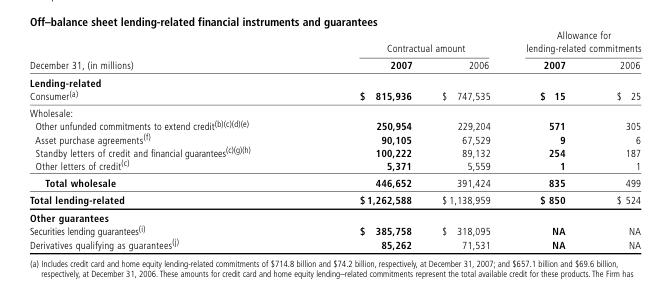table: (28, 28, 640, 250)
table column: (28, 28, 304, 250), (304, 28, 426, 250), (507, 28, 590, 250), (426, 28, 507, 250), (590, 28, 640, 250)
table column header: (28, 28, 640, 73)
table projected row header: (28, 73, 640, 88), (28, 208, 640, 223), (28, 104, 640, 118)
table row: (28, 28, 640, 56), (28, 190, 640, 208), (28, 56, 640, 73), (28, 173, 640, 190), (28, 88, 640, 104), (28, 157, 640, 173), (28, 73, 640, 88), (28, 208, 640, 223), (28, 104, 640, 118), (28, 236, 640, 250), (28, 118, 640, 131), (28, 131, 640, 144), (28, 144, 640, 157), (28, 223, 640, 236)
table spanning cell: (28, 28, 304, 73), (304, 28, 507, 56), (507, 28, 640, 56)
